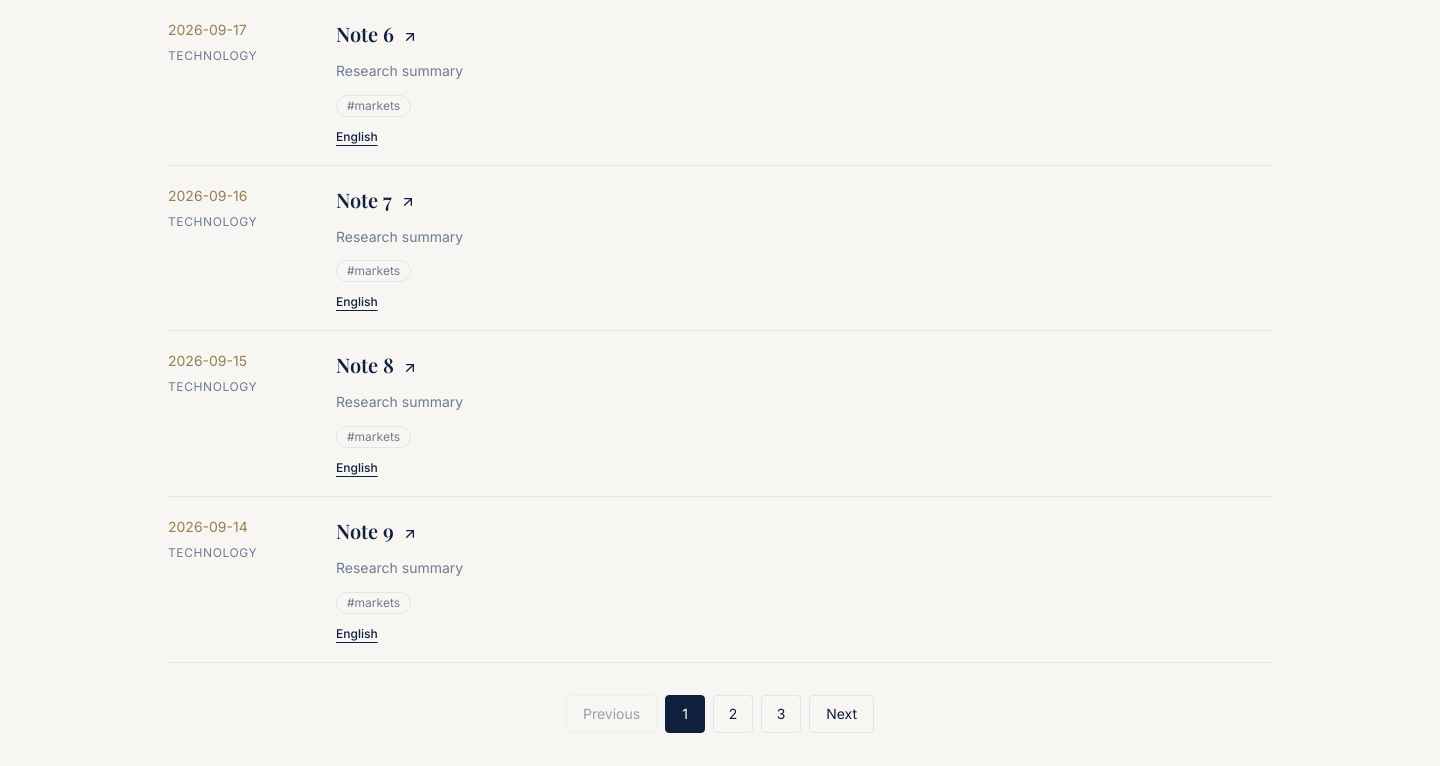
filters all articles before pagination, resets page, and hides pagination for short results
This screenshot has width=1440, height=766.
(page scrolled)
Click the button named "Page 3": (781, 714) [761,695,801,733]
(page scrolled)
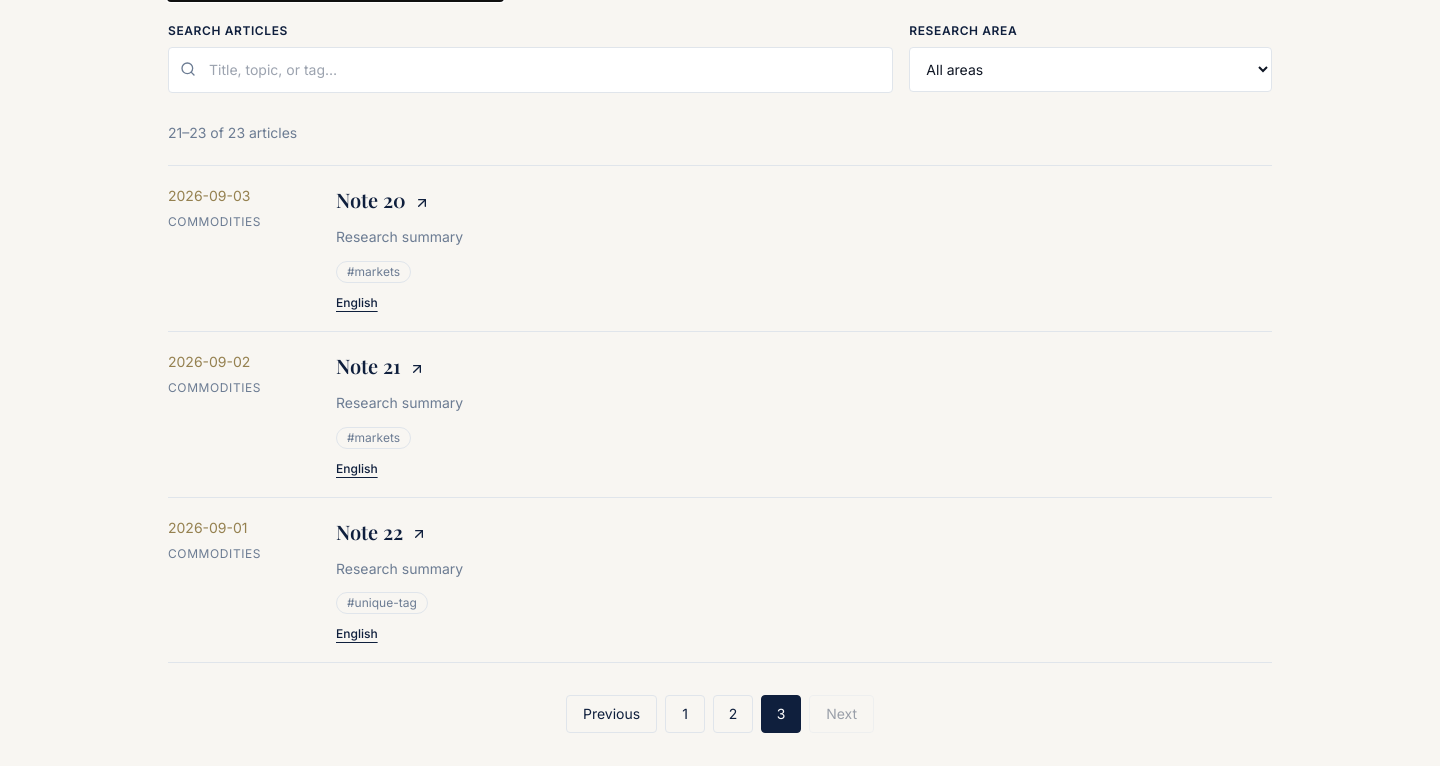
In the search field: (531, 70) [168,47,893,93], type "unique-tag"
(page scrolled)
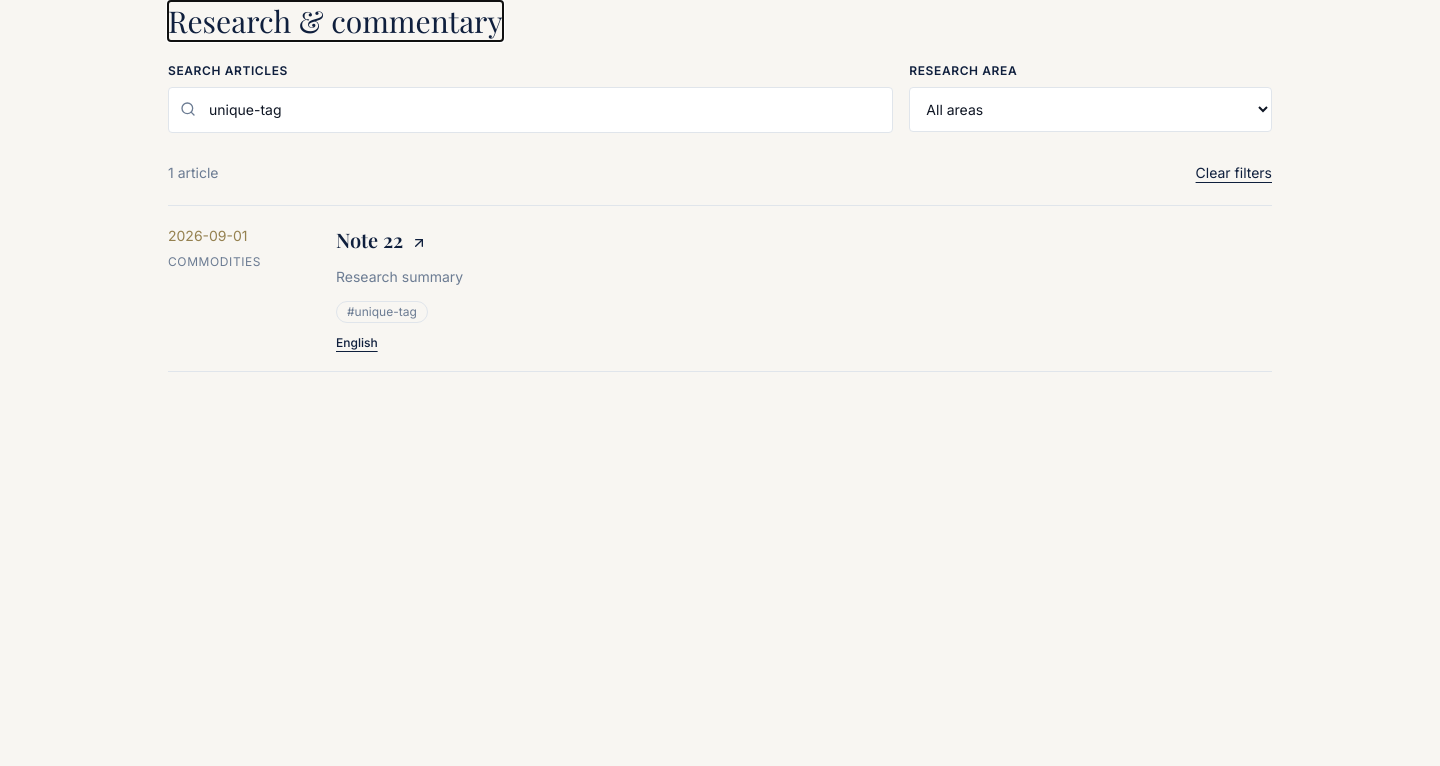
Now the heading "Note 22" is shown, box [336,226,427,253]
Click the button "Clear filters": (1234, 173) [1196,163,1272,183]
(page scrolled)
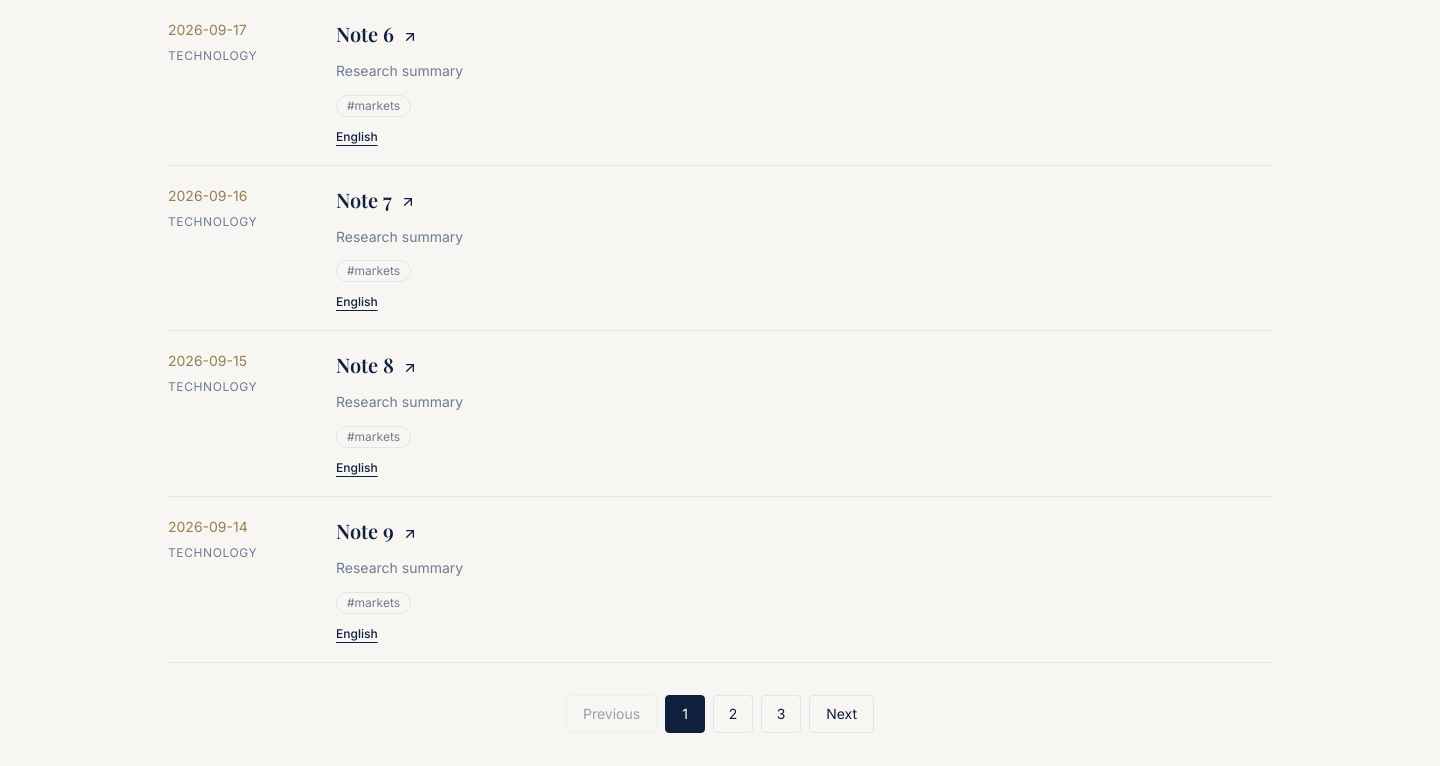
Now the button named "Page 1" is marked as current, box [665,695,705,733]
Click the button named "Page 3": (781, 714) [761,695,801,733]
(page scrolled)
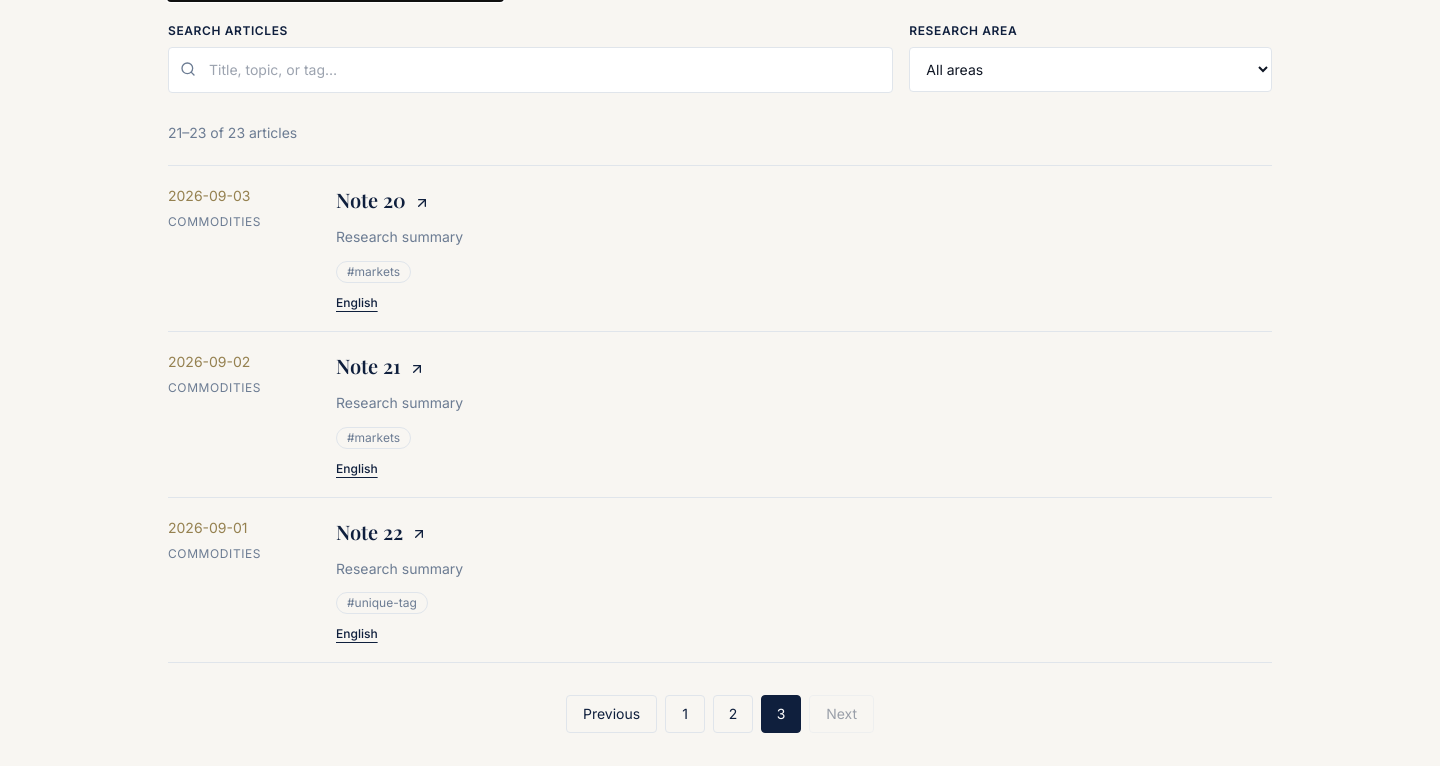
Select "Technology" in the dropdown: (1091, 70) [909,47,1272,92]
(page scrolled)
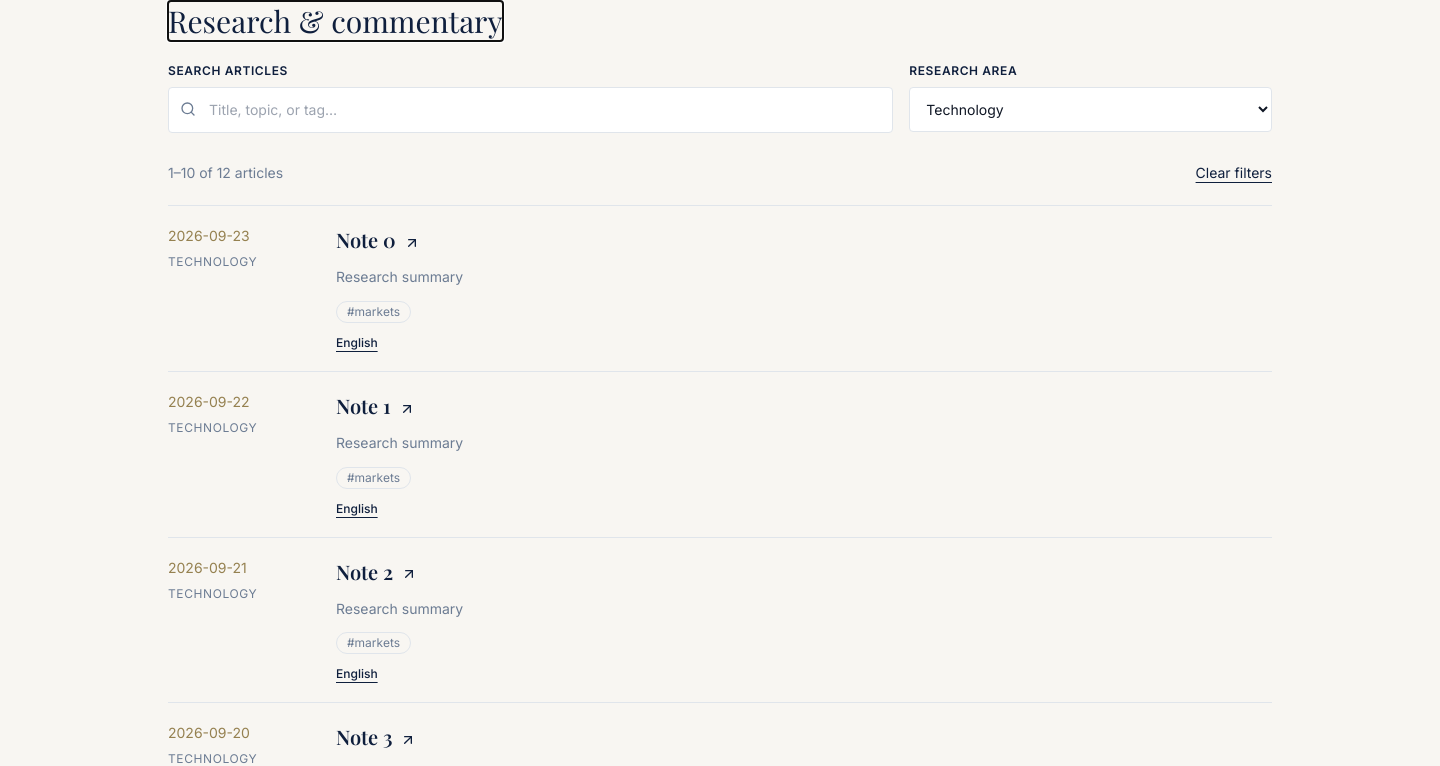
Now the message reads "1–10 of 12 articles", box [168,164,283,181]
In the search field: (531, 110) [168,87,893,133], type "nothing-matches"
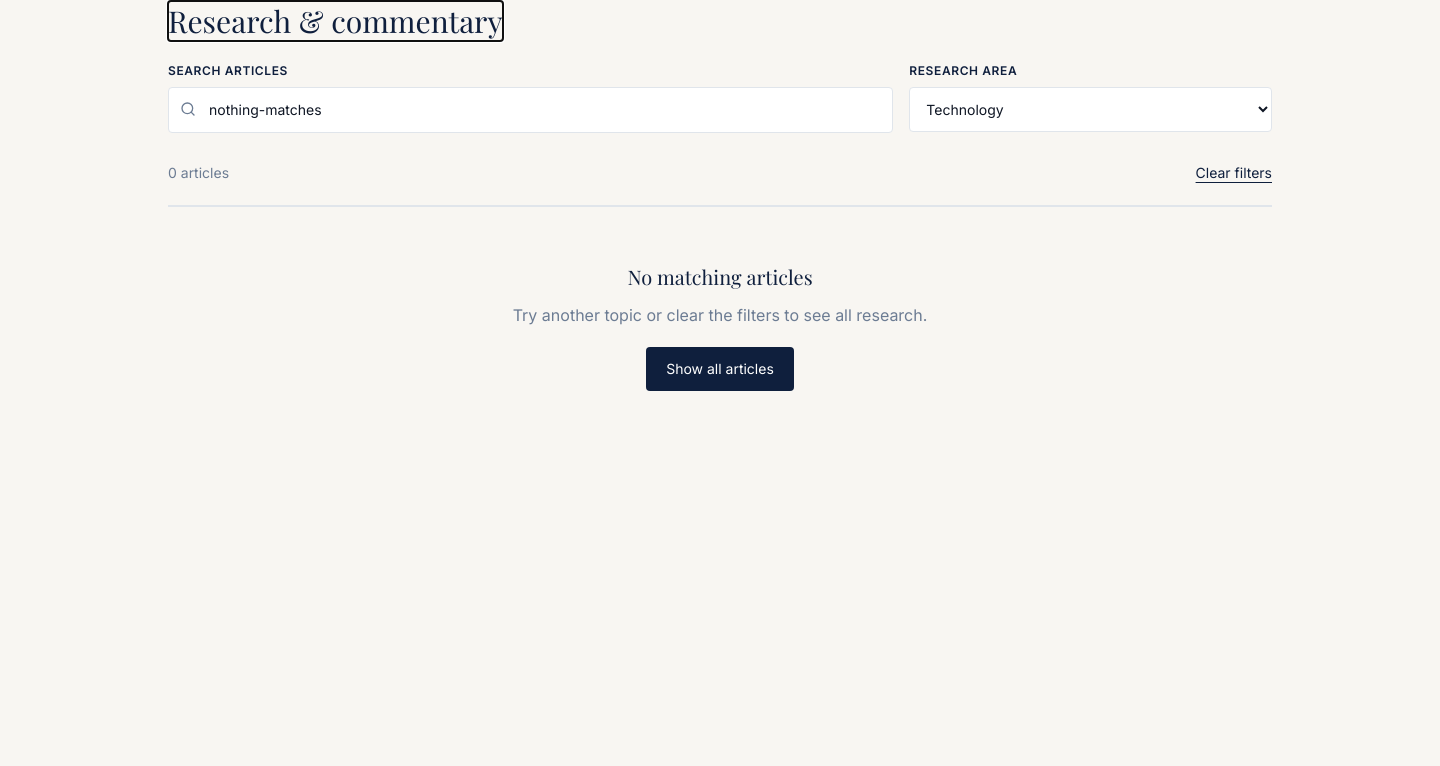
Now the heading "No matching articles" is shown, box [627,263,813,290]
